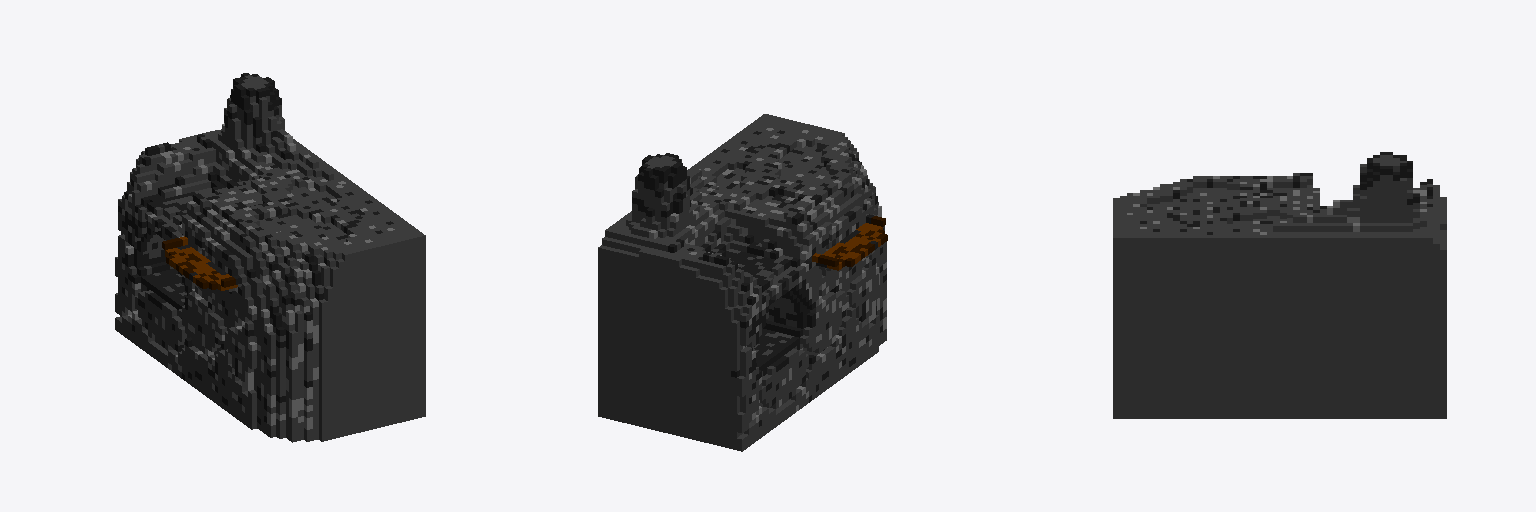
3 views of the same model, side by side, from view 1: azimuth 30°, elevation 25°; view 2: azimuth 150°, elevation 25°; view 3: azimuth 270°, elevation 25° (orthographic).
Parts seen in each view (by area): view 1: object 1; view 2: object 1; view 3: object 1.
Part boxes in pixels (x1,y1,x2,y2): object 1: (115, 73, 425, 442); object 1: (598, 114, 887, 451); object 1: (1113, 152, 1446, 418).
Bounding box in the file's own units: 3 × 4 × 5.
1 materials, 1 textured.